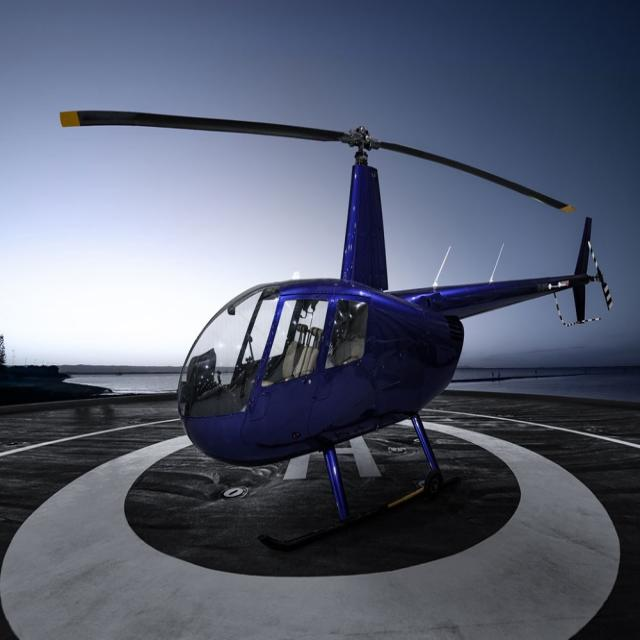CIV_HELO: (174, 120, 595, 557)
